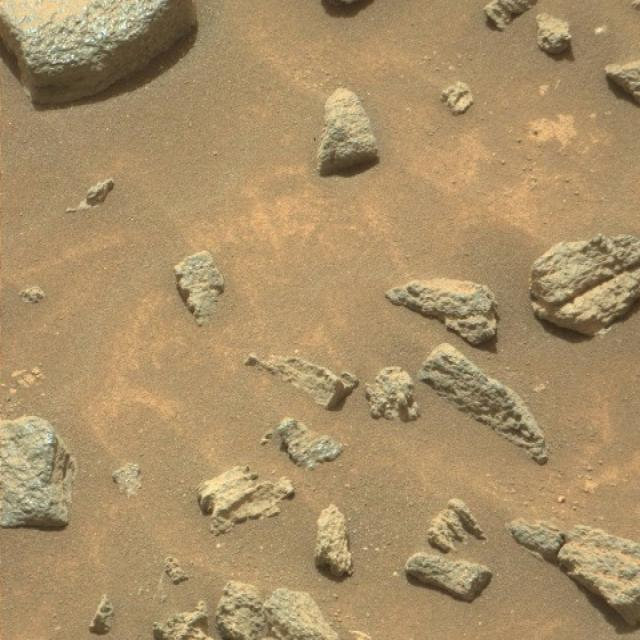mars-rocks: (420, 344, 550, 464), (531, 234, 640, 336), (0, 417, 73, 528), (560, 527, 640, 626), (386, 278, 498, 345), (199, 467, 295, 536), (246, 354, 359, 410), (317, 87, 378, 175), (261, 418, 344, 470), (405, 554, 493, 602), (174, 251, 224, 326), (366, 367, 420, 422), (315, 505, 353, 578), (608, 60, 640, 102)
